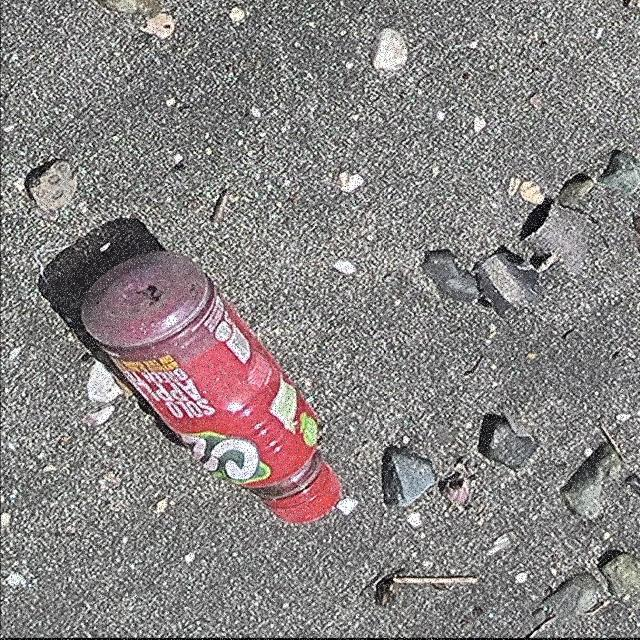plastic_waste: (79, 251, 343, 526)
